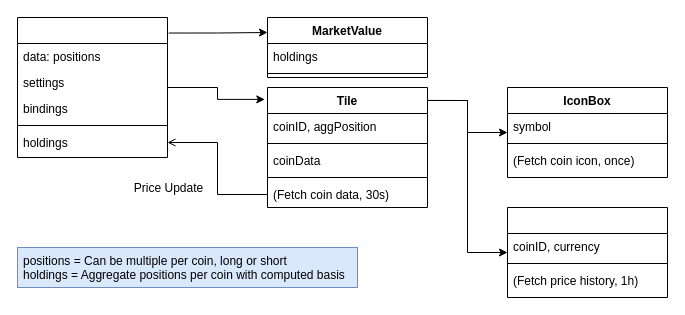
The diagram is 685 pixels wide and 315 high, and some of its shapes have lost their labels. The shapes that lost their labels are listed below. From the top down, each one's box as (x1, y1, x2, y2) in pixels, then its label:
(16, 16, 168, 158): IncortaCrypto
(506, 206, 668, 298): Sparkline
